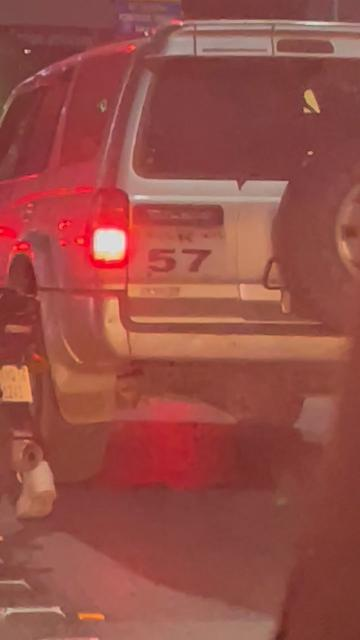plate: (137, 226, 225, 282)
